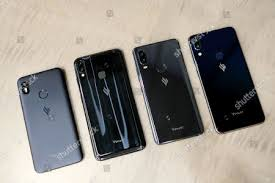vsmart: (64, 46, 146, 161), (131, 36, 205, 148), (15, 65, 85, 177)
